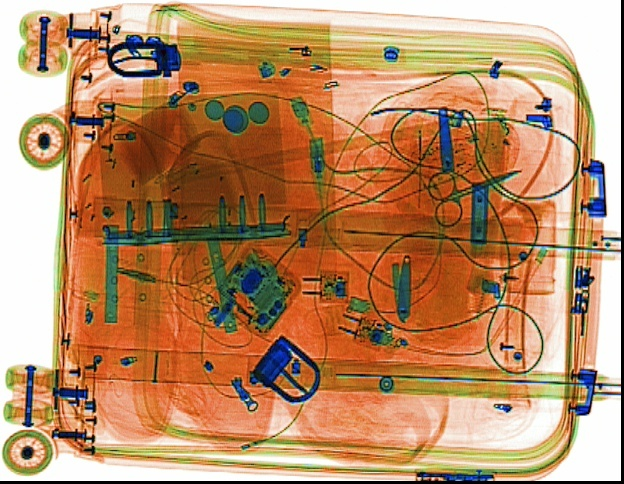scissors: (427, 167, 523, 227)
